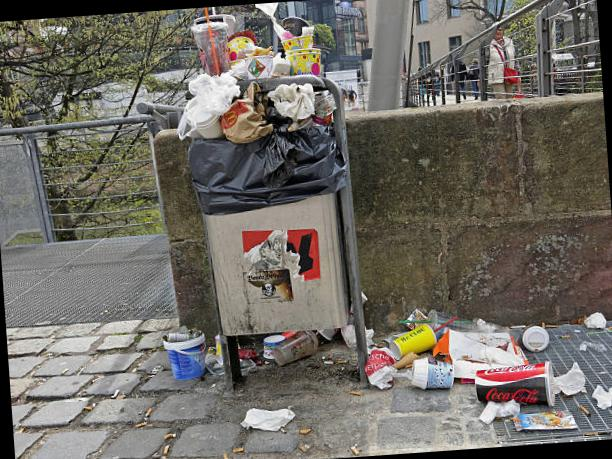trash: (177, 2, 336, 88), (467, 355, 582, 416), (184, 7, 246, 90), (444, 324, 526, 376), (488, 405, 584, 446), (170, 76, 228, 140), (277, 19, 332, 75), (234, 396, 300, 439), (393, 347, 460, 388), (432, 302, 480, 358), (263, 82, 305, 142), (382, 309, 438, 354), (226, 35, 280, 80), (164, 318, 210, 366), (258, 326, 312, 366), (468, 394, 528, 430), (403, 298, 455, 338), (220, 79, 256, 135), (513, 319, 561, 361), (274, 322, 326, 358), (358, 345, 396, 391), (556, 351, 588, 396), (207, 333, 238, 377), (310, 86, 340, 130), (579, 306, 612, 335), (590, 371, 612, 412), (342, 316, 362, 349), (237, 332, 259, 358), (319, 323, 343, 339)
trash_can_overflow: (158, 1, 498, 430)
